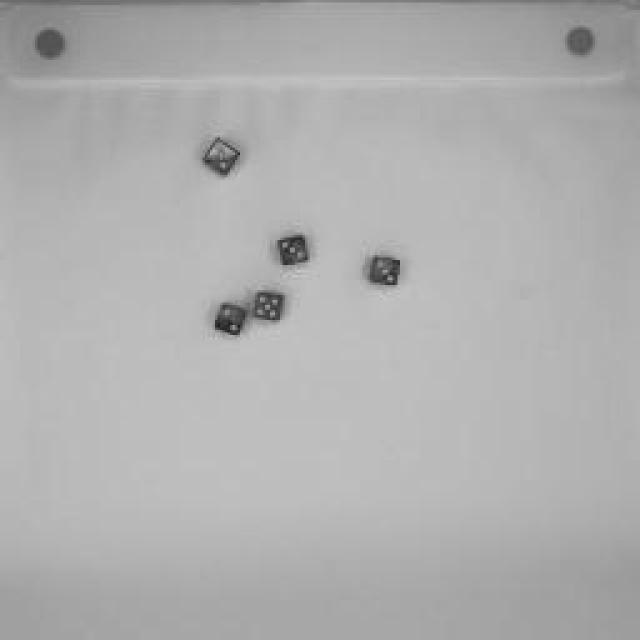dice_2: (210, 302, 250, 338)
dice_3: (362, 251, 408, 294), (203, 135, 245, 180), (274, 234, 311, 268)
dice_5: (249, 288, 289, 328)
